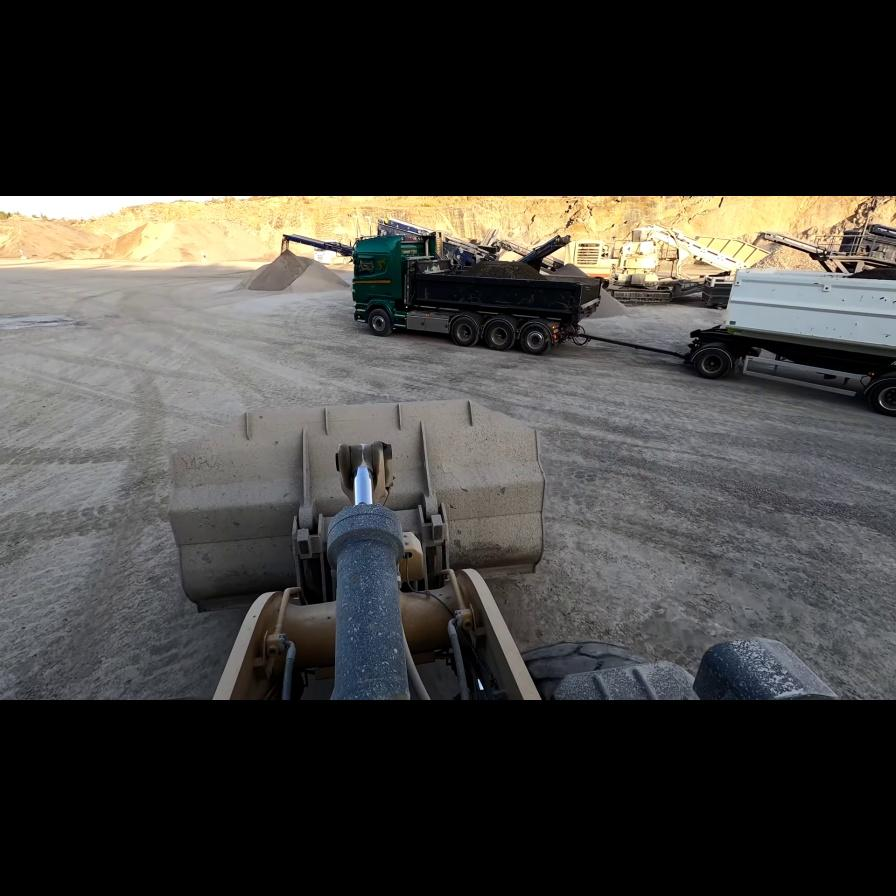anchor: (334, 441, 391, 506)
pile of gravel: (109, 216, 265, 264), (0, 214, 109, 263), (240, 248, 350, 294)
